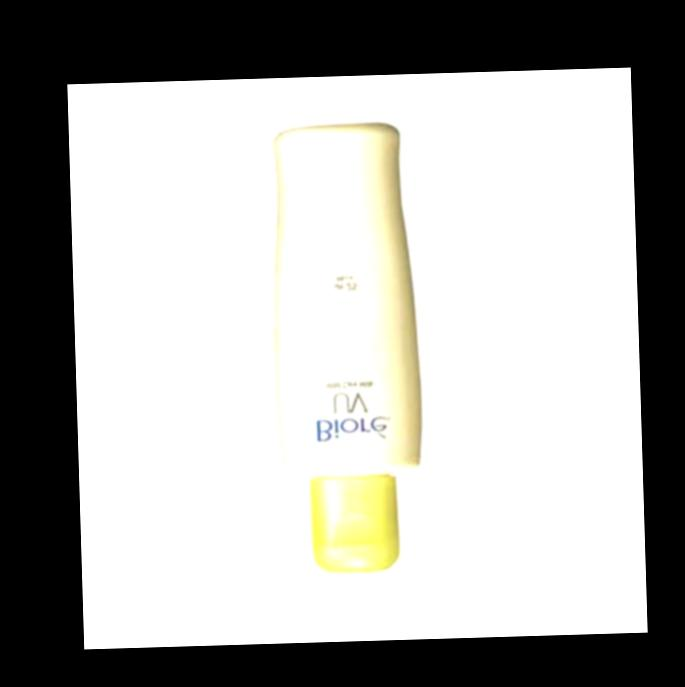cosmetic: (267, 121, 426, 579)
